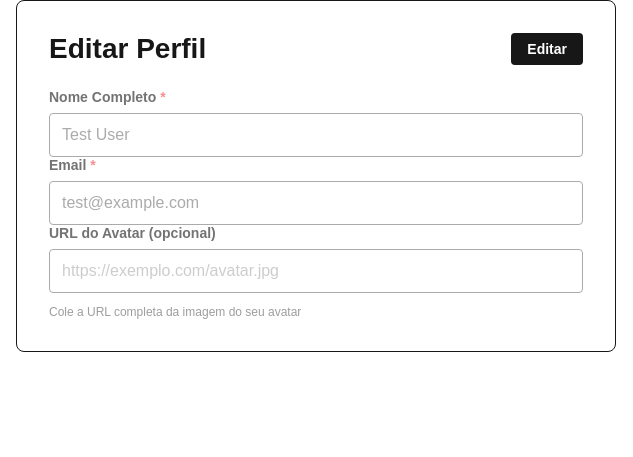
Scenario: ProfileForm › should enable editing when edit button is clicked
The image size is (633, 457).
Click the button "Editar": {"x": 547, "y": 49} [511, 33, 583, 65]
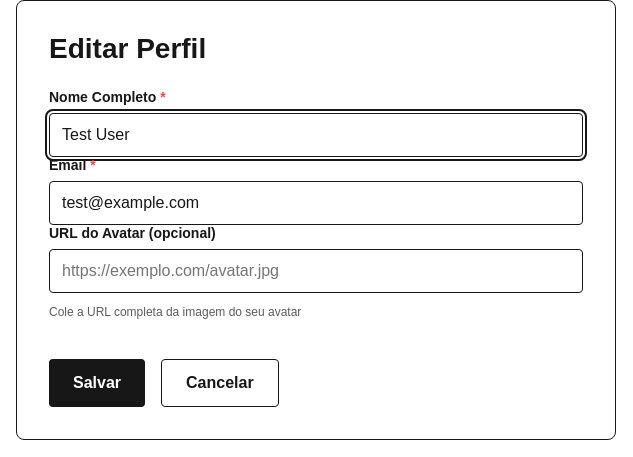
Check: the field showing "Test User" is enabled, box [49, 113, 583, 157]
